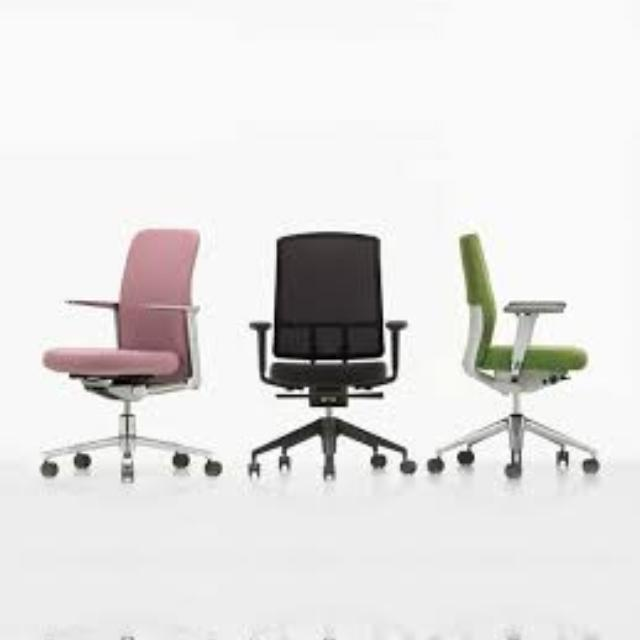obstacle: (430, 164, 632, 558), (22, 174, 230, 512), (238, 169, 420, 531), (430, 559, 632, 640), (238, 587, 419, 640), (22, 607, 229, 640)
